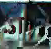Stop: (1, 2, 49, 48)
